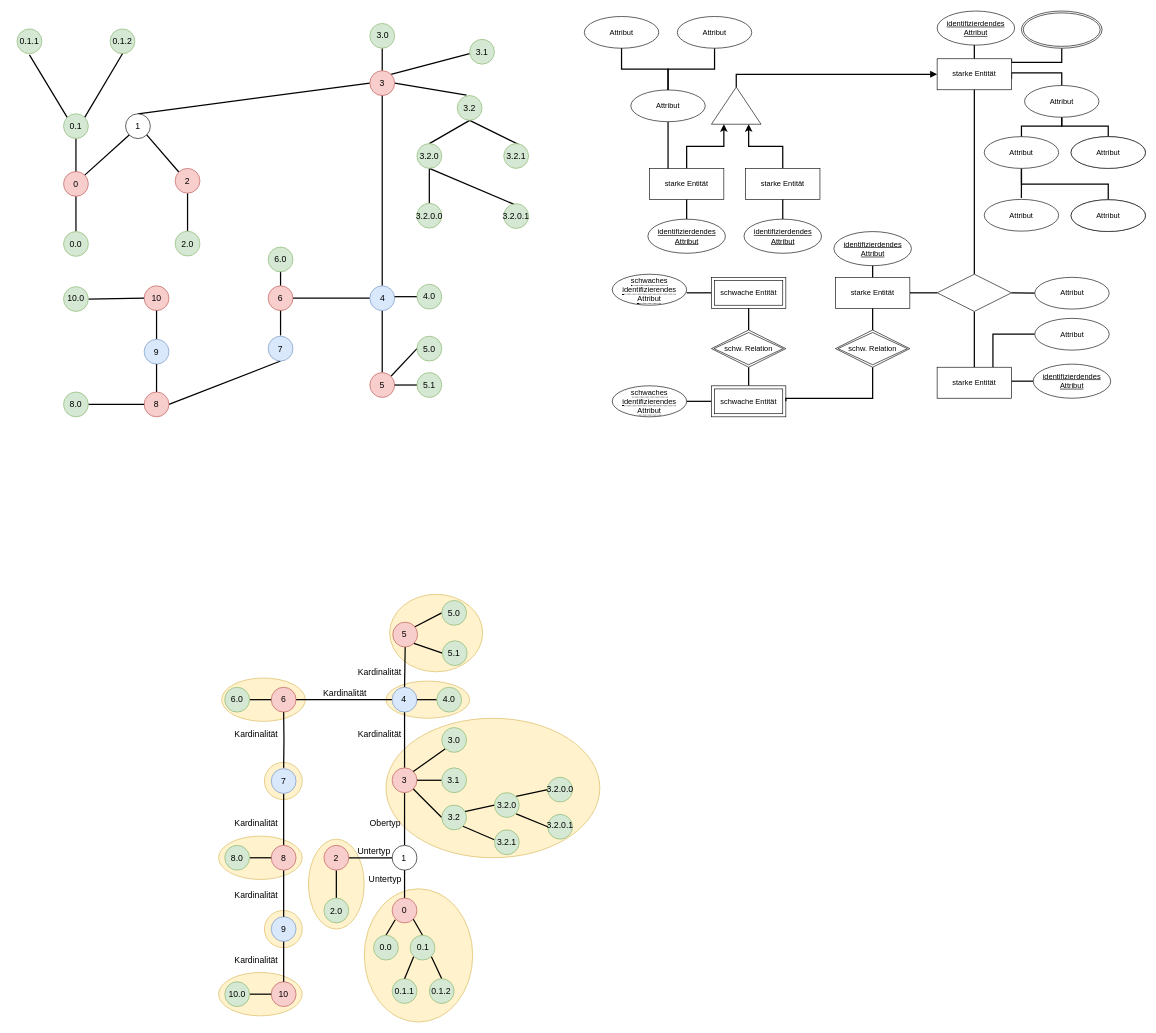
This 1156x1033 diagram has some shape labels left out. Here are the shapes that lost their labels. From the top down, the centre of each, then its label:
(x=1061, y=29): Mehrwertiges Attribut
(x=736, y=105): IsA
(x=974, y=292): Relation
